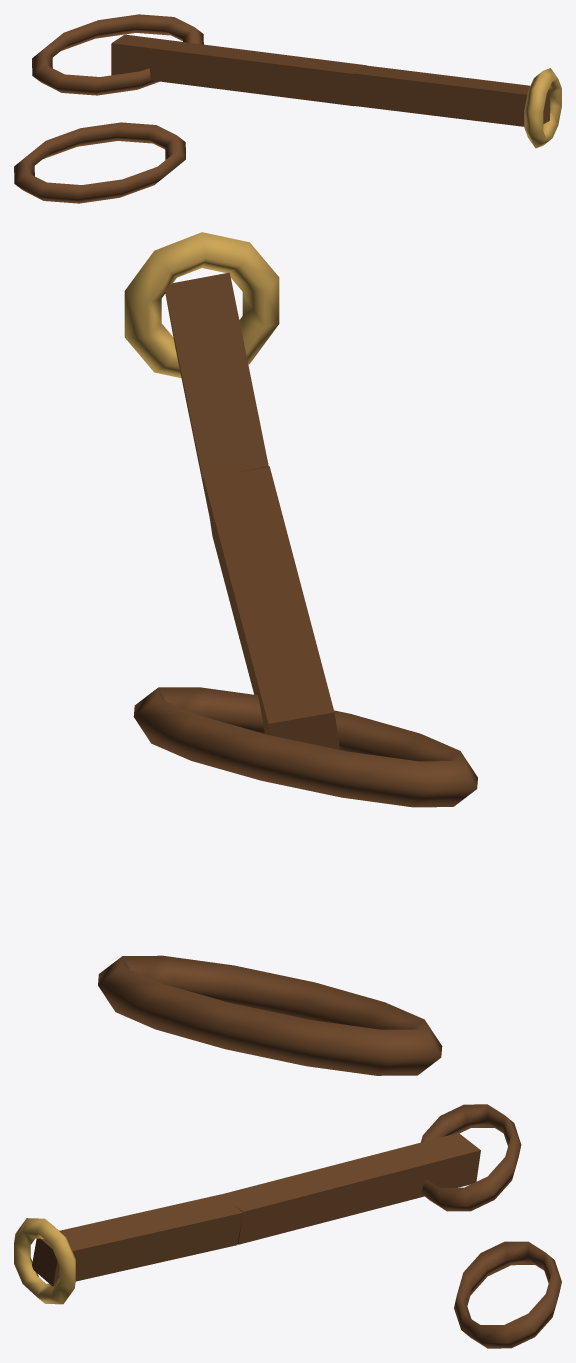
The model's file is Holder_Sword.fbx.
The picture shows the model from 3 angles, top to bottom: view 1: azimuth 30°, elevation 25°; view 2: azimuth 150°, elevation 25°; view 3: azimuth 270°, elevation 25°; orthographic projection. The views are drawn at different scales.
Visible parts, largest first — view 1: Holder_Sword; view 2: Holder_Sword; view 3: Holder_Sword.
Boxes of the visible parts, x1,y1,x2,y2 form: Holder_Sword: (14, 14, 561, 203); Holder_Sword: (98, 232, 477, 1075); Holder_Sword: (14, 1104, 561, 1348).
Size of the model in its own units: 0.1021 by 0.0571 by 0.1225.
